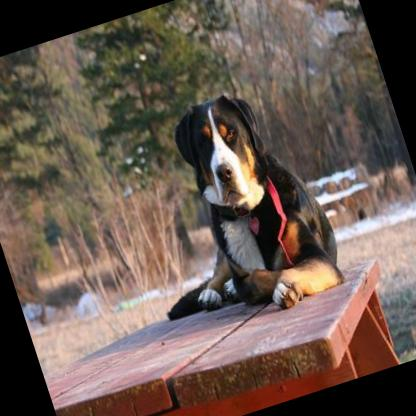Greater_Swiss_Mountain_dog: (104, 73, 353, 346)
